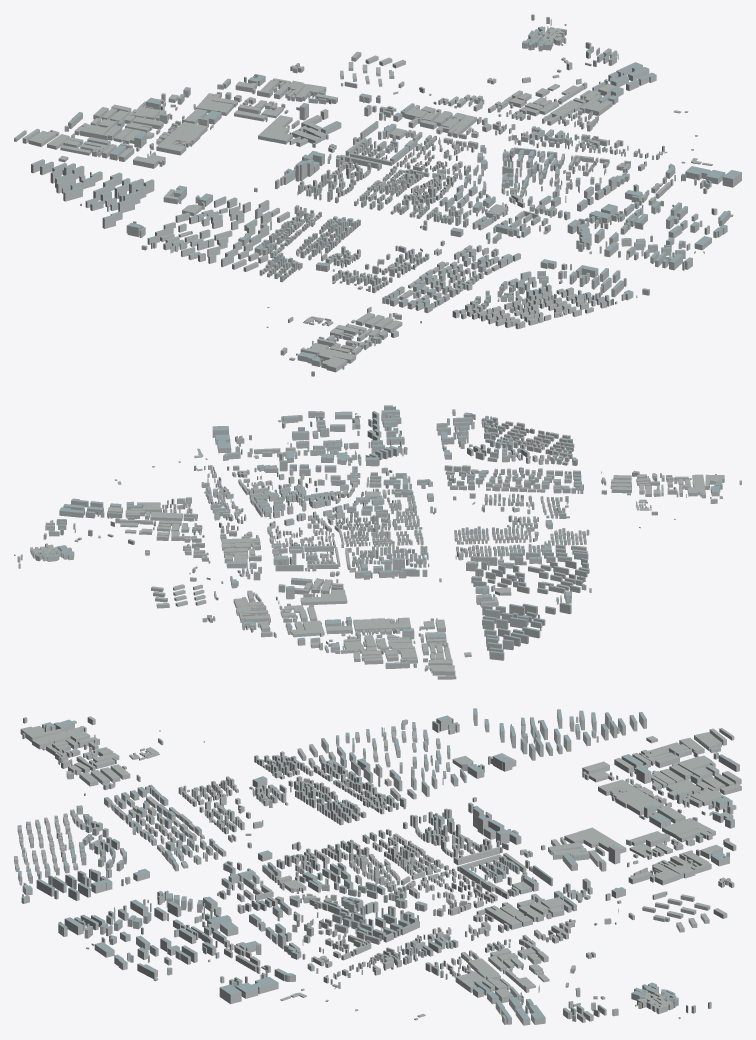
The model's file is far.glb.
3 views of the same model, one above another, from view 1: azimuth 30°, elevation 25°; view 2: azimuth 150°, elevation 25°; view 3: azimuth 270°, elevation 25° (orthographic). The views are drawn at different scales.
Size of the model in its own units: 2116 by 57.04 by 2120.
